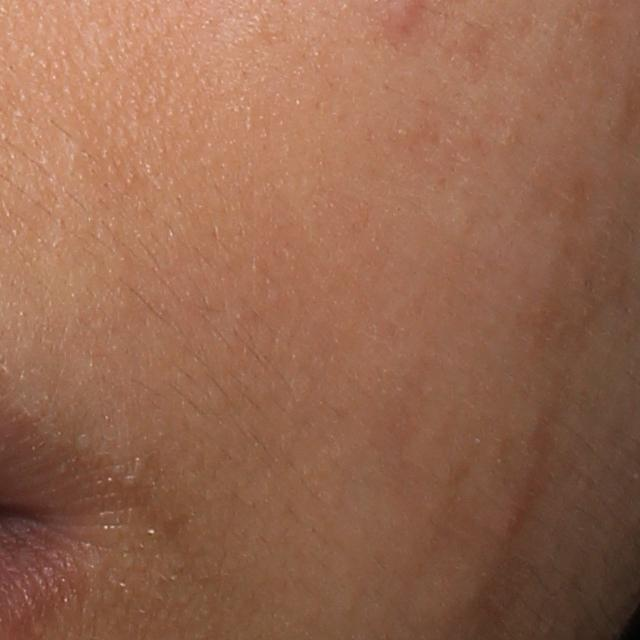papule: (488, 495, 536, 544)
